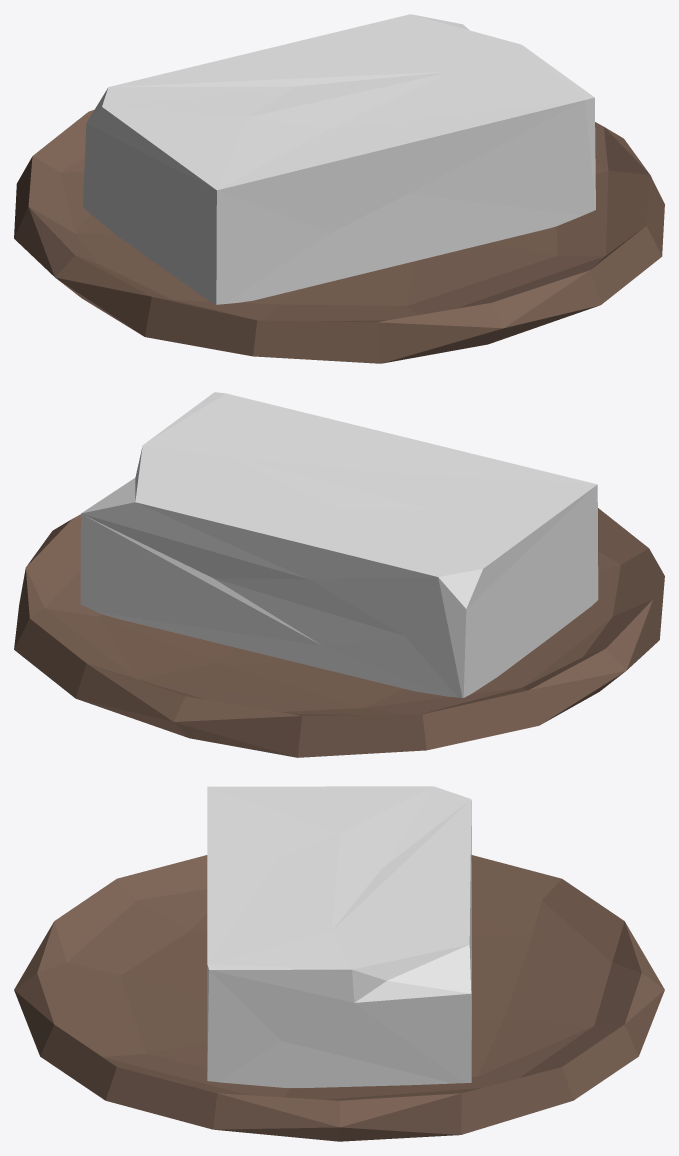
Rendered from cheese.glb.
3 renders of one model, top to bottom at view 1: azimuth 30°, elevation 25°; view 2: azimuth 150°, elevation 25°; view 3: azimuth 270°, elevation 25°, orthographic.
Visible parts, largest first — view 1: Cube.001, Cube; view 2: Cube.001, Cube; view 3: Cube, Cube.001.
Part boxes in pixels (x1,y1,x2,y2): Cube.001: (83, 14, 595, 304); Cube: (14, 109, 664, 363); Cube.001: (80, 392, 598, 697); Cube: (14, 508, 664, 757); Cube: (14, 855, 664, 1141); Cube.001: (207, 786, 471, 1087).
Bounding box in the file's own units: 0.2921 × 0.0788 × 0.2921.
